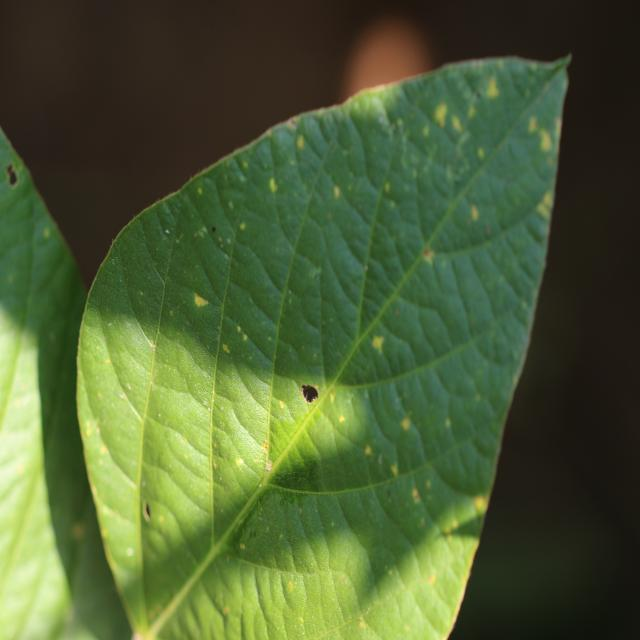Soybean: (74, 56, 570, 640)
downey_mildew: (318, 75, 566, 502), (100, 276, 463, 565), (81, 209, 214, 632), (132, 401, 330, 640), (360, 205, 514, 392), (133, 199, 264, 412), (274, 378, 471, 512), (483, 178, 557, 515), (36, 292, 106, 623), (225, 481, 373, 636), (203, 154, 309, 365), (0, 101, 82, 349), (428, 273, 541, 449), (440, 90, 558, 250), (1, 338, 63, 626), (100, 216, 184, 402), (352, 204, 439, 380), (78, 277, 147, 491), (350, 119, 403, 378), (349, 519, 464, 638), (201, 365, 293, 509), (209, 192, 246, 517), (138, 446, 219, 582), (245, 388, 340, 503), (253, 133, 328, 275), (315, 190, 378, 355), (138, 363, 219, 491), (166, 551, 281, 639), (392, 441, 486, 532), (411, 194, 542, 257), (182, 206, 246, 323), (197, 291, 269, 393), (434, 146, 488, 267), (27, 213, 77, 324), (308, 384, 371, 464), (1, 416, 40, 541), (90, 489, 140, 578), (1, 312, 29, 467), (85, 425, 140, 500), (136, 224, 173, 327), (235, 497, 289, 560), (252, 559, 294, 637), (442, 115, 479, 183), (207, 350, 218, 576), (239, 565, 268, 640), (114, 371, 145, 430)
